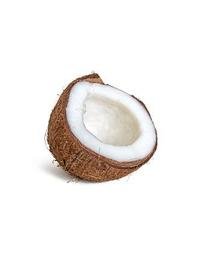coconut: (47, 72, 158, 183)
